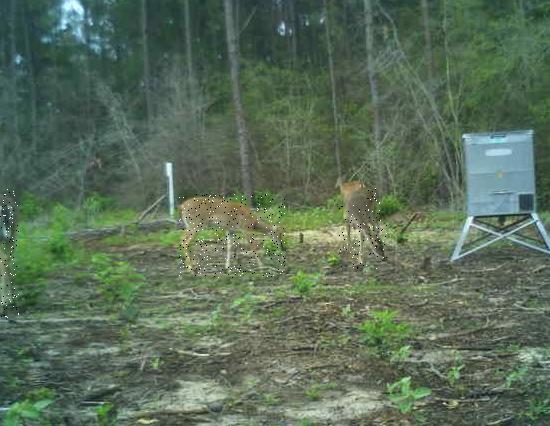Deer: (179, 195, 286, 279), (339, 188, 387, 270), (0, 189, 19, 318), (337, 175, 364, 204)
